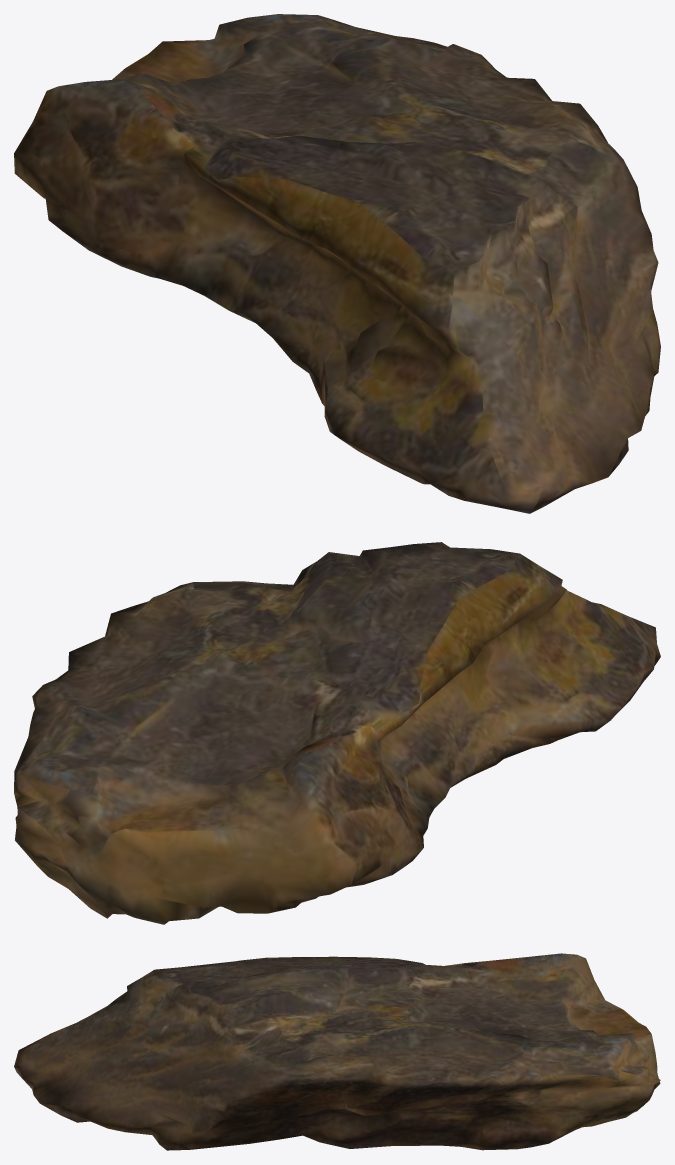
Rendered from roca_suelo_09.glb.
3 views of the same model, one above another, from view 1: azimuth 30°, elevation 25°; view 2: azimuth 150°, elevation 25°; view 3: azimuth 270°, elevation 25° (orthographic). The views are drawn at different scales.
Visible parts, largest first — view 1: roca_suelo_09; view 2: roca_suelo_09; view 3: roca_suelo_09.
Part boxes in pixels (left/top/right/bottom): roca_suelo_09: left=14, top=14, right=660, bottom=513; roca_suelo_09: left=14, top=542, right=660, bottom=924; roca_suelo_09: left=14, top=953, right=660, bottom=1150.
Size of the model in its own units: 0.5363 by 0.2366 by 1.05.
Materials: 1 (1 with a texture image).
